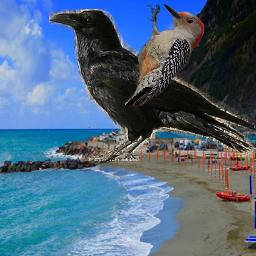Crow: (49, 9, 255, 161)
Woodpecker: (125, 4, 204, 106)
